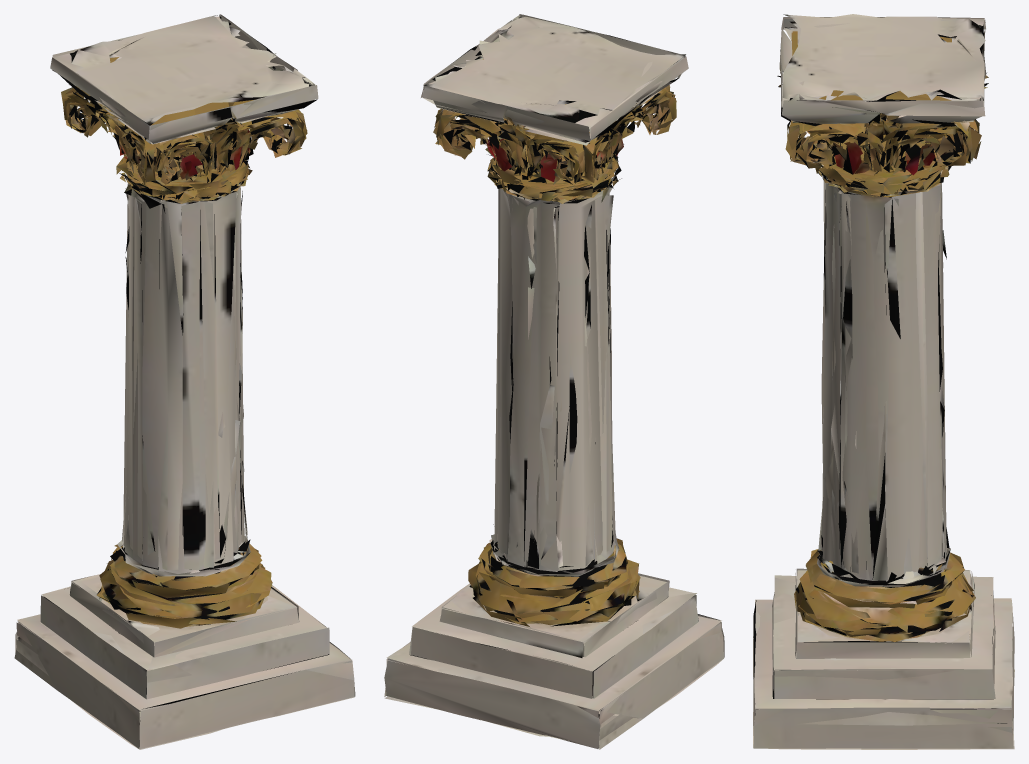
The model's file is town_column.glb.
3 views of the same model, side by side, from view 1: azimuth 30°, elevation 25°; view 2: azimuth 150°, elevation 25°; view 3: azimuth 270°, elevation 25° (orthographic). The views are drawn at different scales.
Parts seen in each view (by area): view 1: world; view 2: world; view 3: world.
Part boxes in pixels (x1,y1,x2,y2): world: [14, 14, 355, 749]; world: [384, 14, 724, 749]; world: [753, 14, 1014, 749].
Bounding box in the file's own units: 1.95 × 5.24 × 1.94.
1 material, 1 textured.
